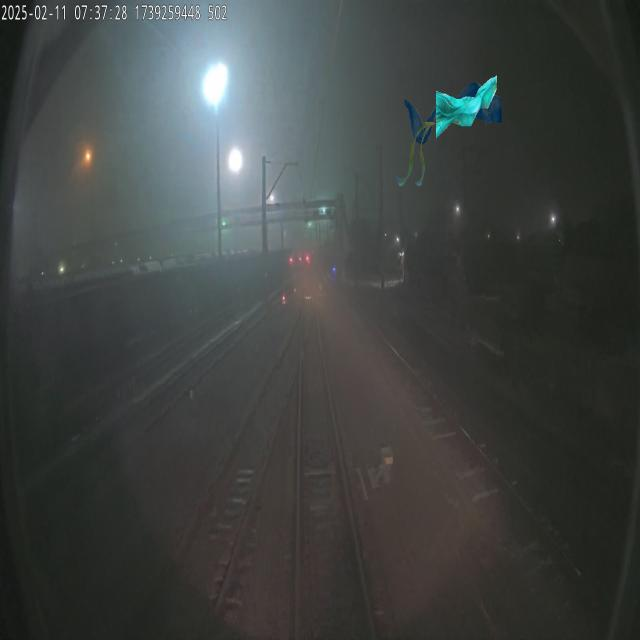floating object: (405, 81, 503, 145), (435, 74, 497, 138), (395, 122, 437, 186)
